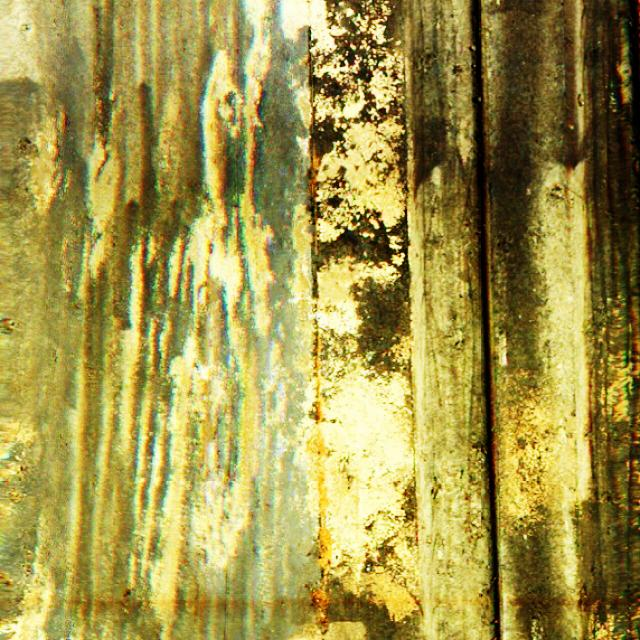Corrosion: (317, 526, 334, 586), (312, 587, 329, 634), (310, 141, 322, 199), (318, 470, 329, 517), (315, 373, 323, 423), (312, 430, 326, 456), (313, 334, 323, 370), (315, 217, 319, 255)
